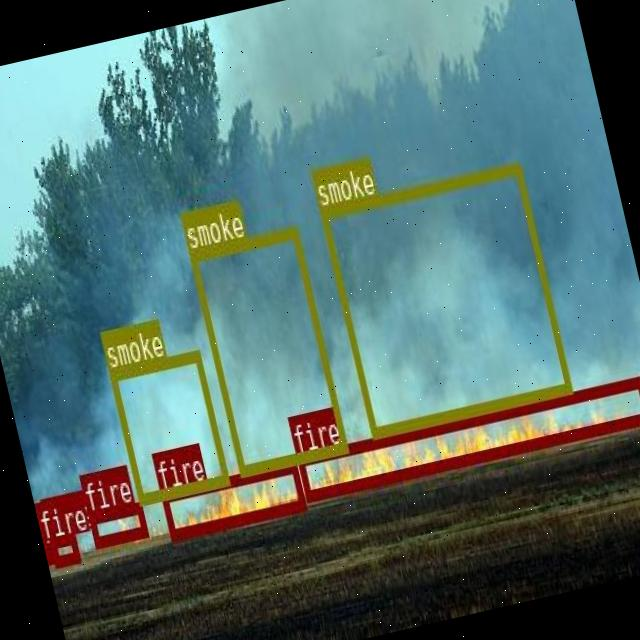fire: (296, 375, 640, 498), (159, 460, 305, 540), (87, 499, 147, 546), (48, 531, 80, 565), (43, 540, 50, 560)
smoke: (318, 162, 570, 436), (188, 226, 346, 475), (108, 349, 229, 504)
